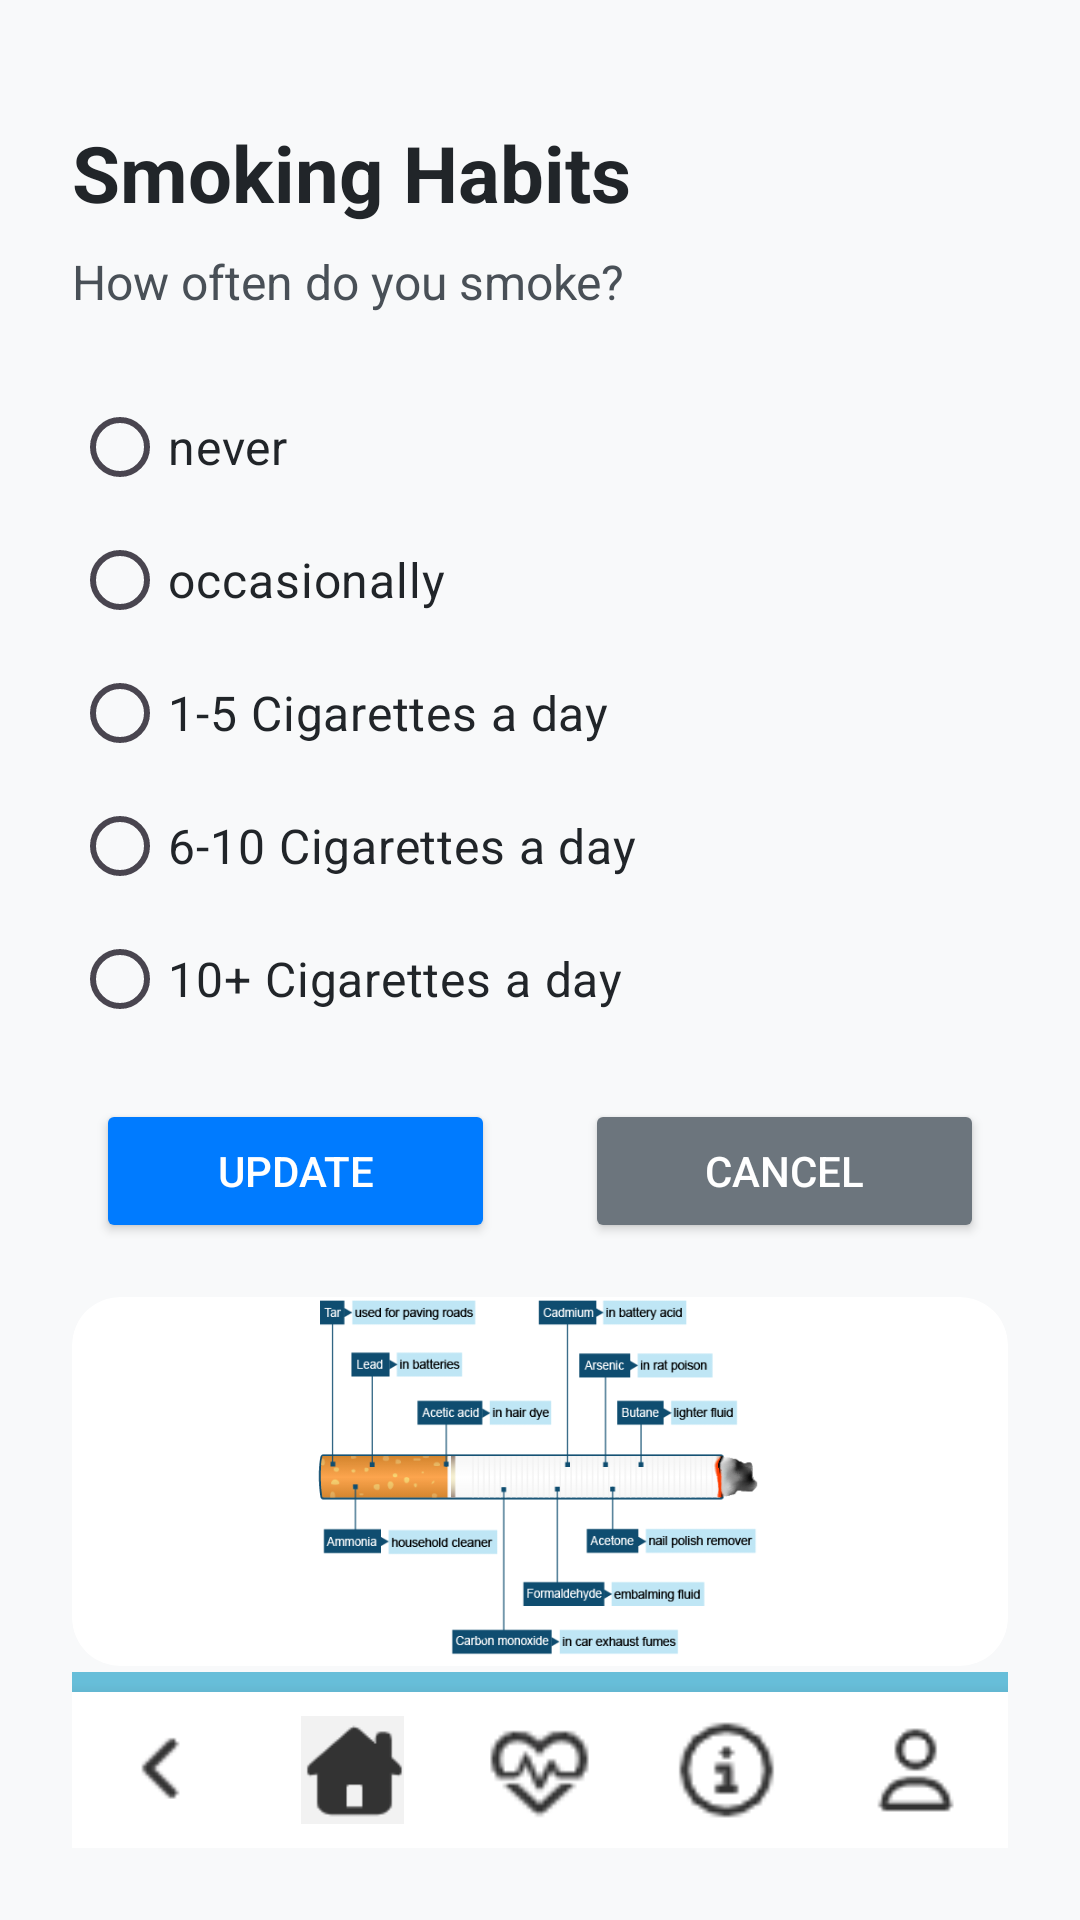

Where to tap for icons on this 1080 × 1920 app screen, as (x,y):
Back: (160,1768)
Home: (354,1771)
Info: (726,1770)
Profile: (916,1770)
